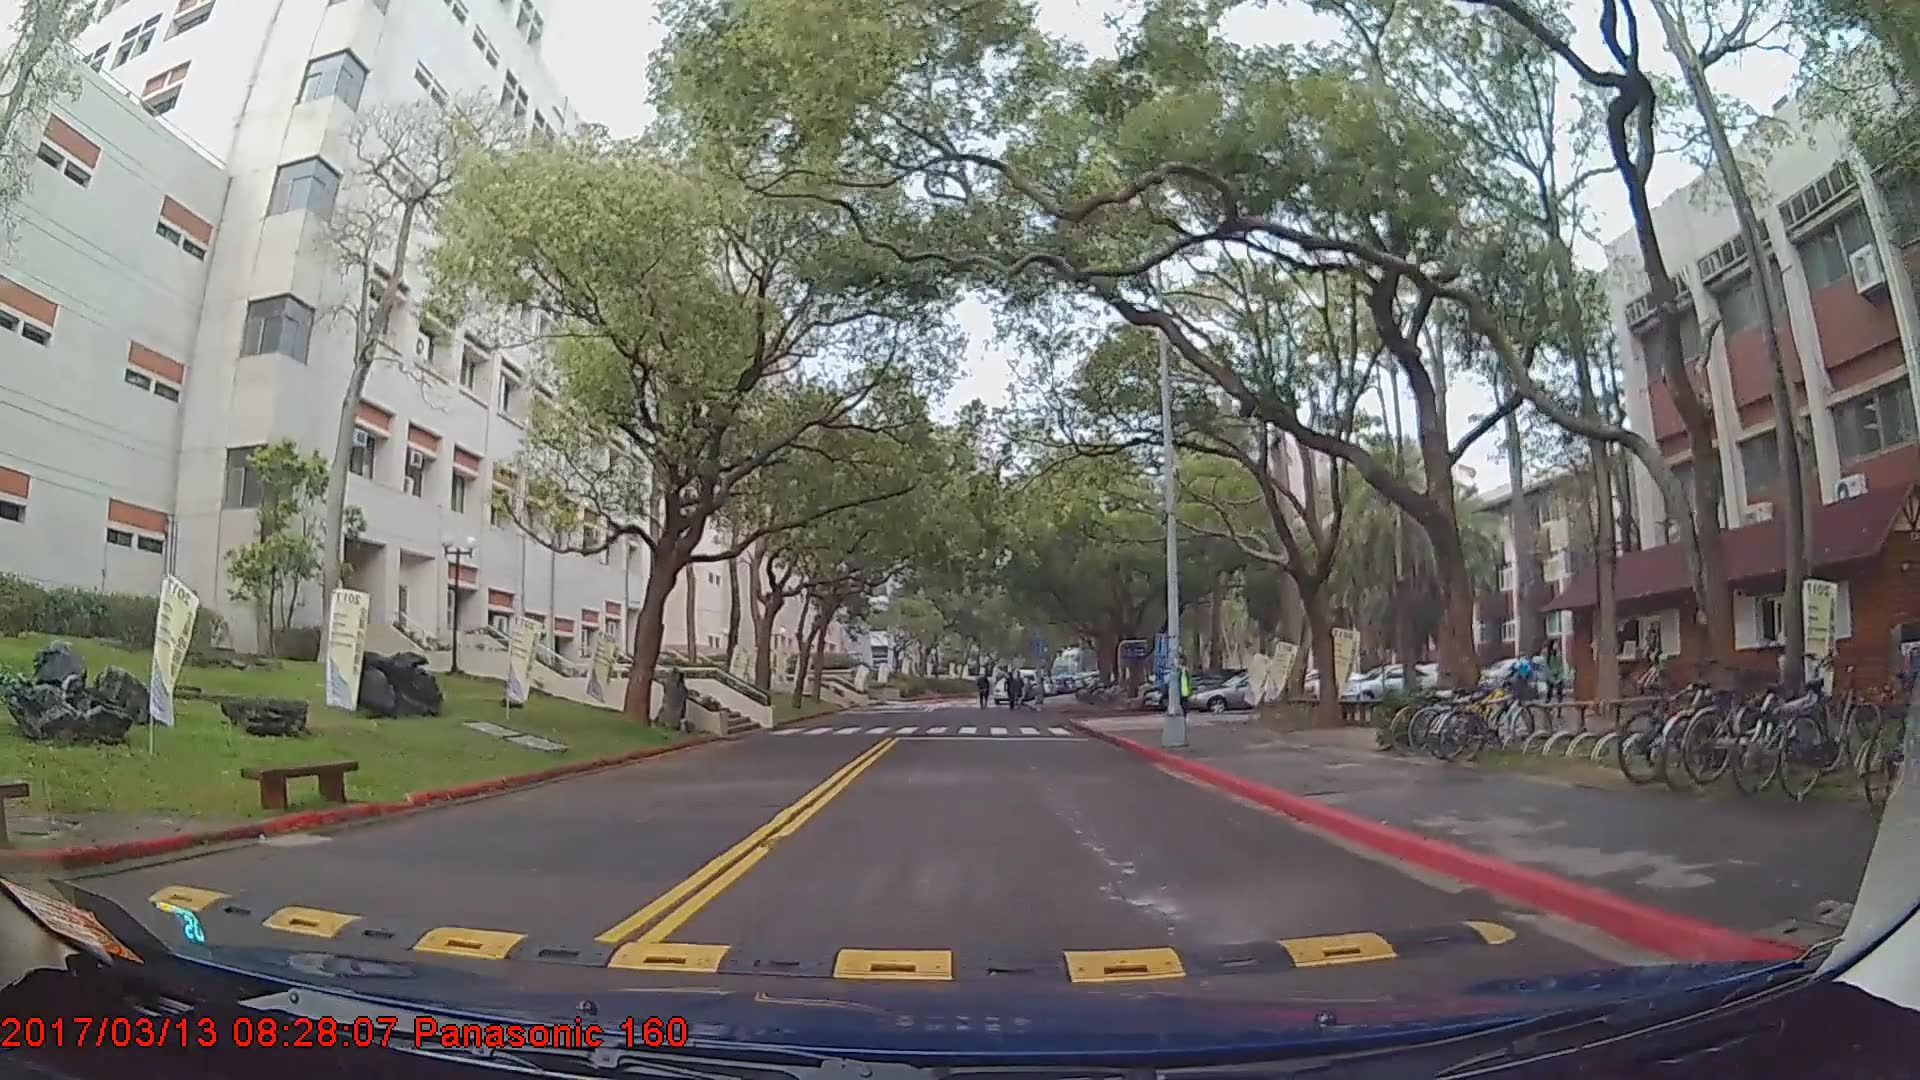vehicle: (1187, 670, 1319, 712), (1338, 659, 1447, 705)
